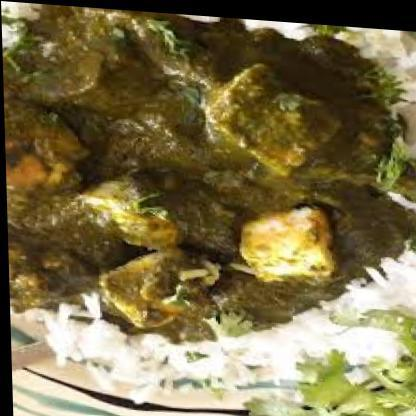palak_paneer: (0, 0, 416, 354)
